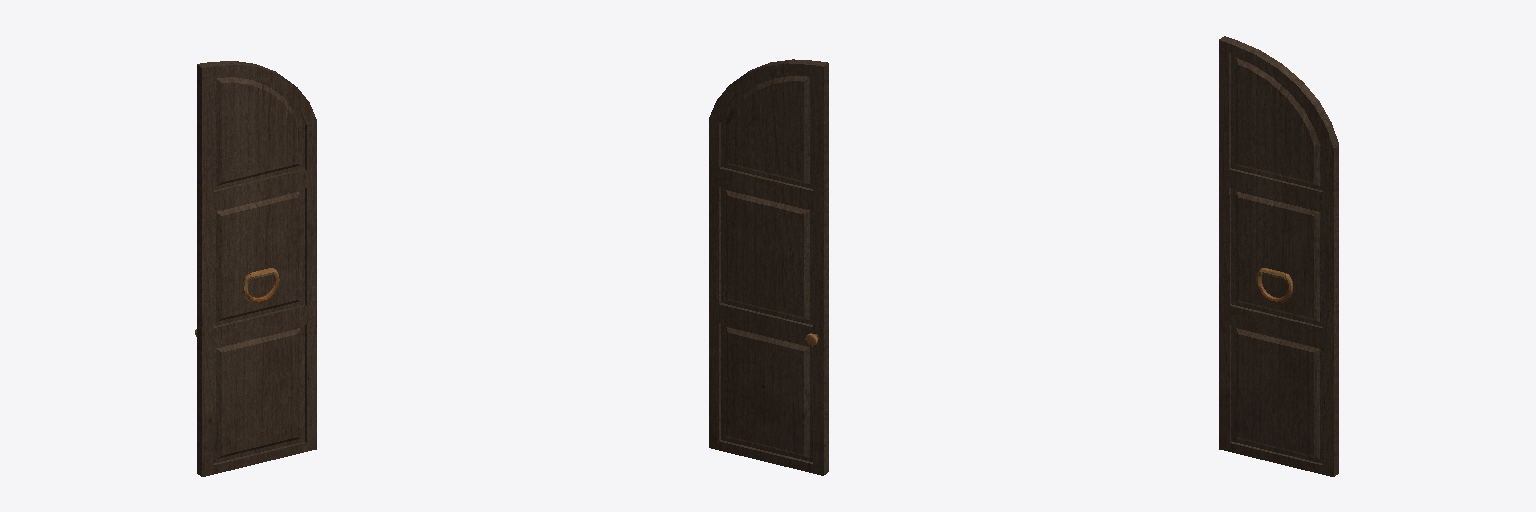
The picture shows the model from 3 angles: view 1: azimuth 30°, elevation 25°; view 2: azimuth 150°, elevation 25°; view 3: azimuth 330°, elevation 25°; orthographic projection.
Visible parts, largest first — view 1: Main_Door_Left001; view 2: Main_Door_Left001; view 3: Main_Door_Left001.
Part boxes in pixels (bbox=[...]): Main_Door_Left001: bbox=[195, 61, 316, 476]; Main_Door_Left001: bbox=[709, 59, 828, 475]; Main_Door_Left001: bbox=[1219, 36, 1338, 476].
Size of the model in its own units: 67.89 by 231 by 13.44.
Materials: 1 (1 with a texture image).